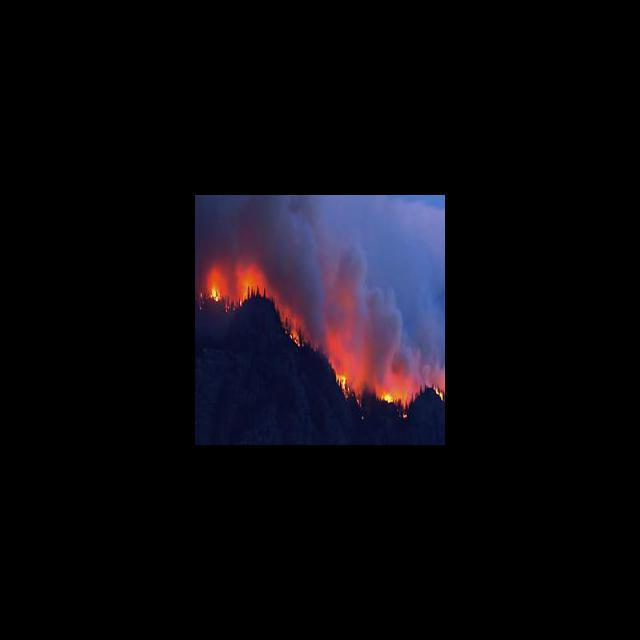Fire: (235, 259, 266, 307), (275, 302, 309, 345), (330, 342, 355, 394), (201, 268, 226, 302), (379, 383, 400, 404), (429, 379, 444, 404)
